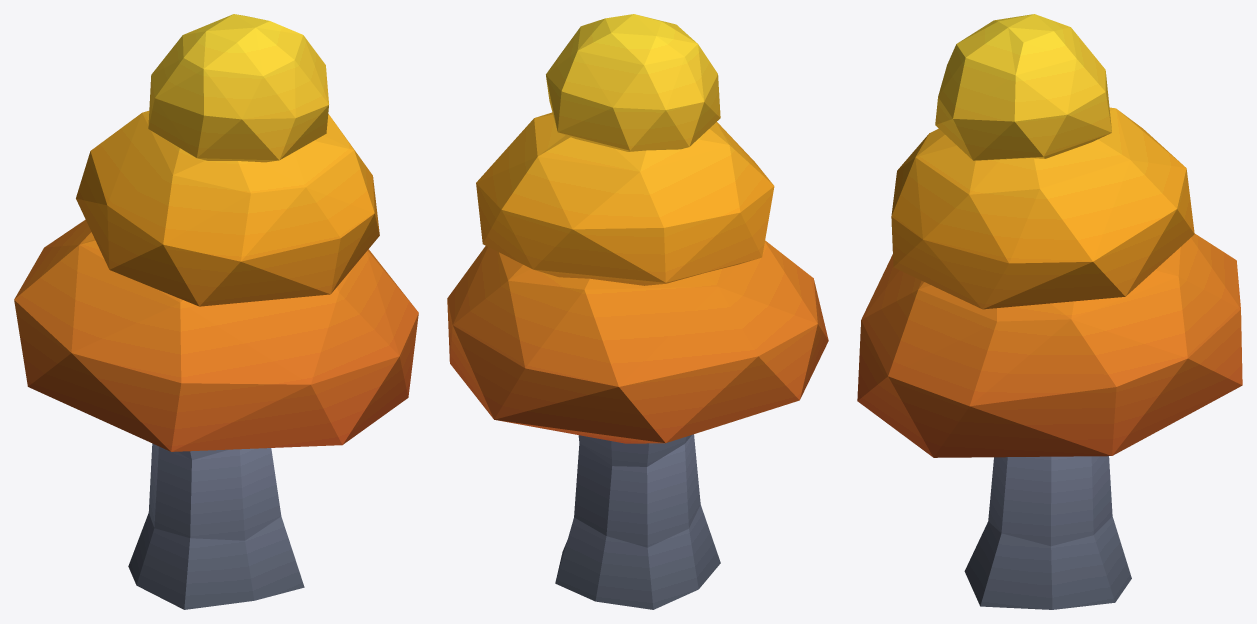
File: Birch_G.glb
3 views of the same model, side by side, from view 1: azimuth 30°, elevation 25°; view 2: azimuth 150°, elevation 25°; view 3: azimuth 270°, elevation 25° (orthographic). The views are drawn at different scales.
Visible parts, largest first — view 1: Birch_Leaves1_L, Birch_Leaves2_L, Birch_Trunk_L, Birch_Leaves3_L; view 2: Birch_Leaves1_L, Birch_Leaves2_L, Birch_Trunk_L, Birch_Leaves3_L; view 3: Birch_Leaves1_L, Birch_Leaves2_L, Birch_Trunk_L, Birch_Leaves3_L.
Boxes of the visible parts, box(x1,y1,x2,y2) form: Birch_Leaves1_L: box(14, 219, 418, 451); Birch_Leaves2_L: box(76, 111, 379, 306); Birch_Trunk_L: box(128, 443, 304, 609); Birch_Leaves3_L: box(148, 14, 328, 162); Birch_Leaves1_L: box(447, 240, 828, 443); Birch_Leaves2_L: box(476, 112, 774, 285); Birch_Trunk_L: box(555, 434, 720, 609); Birch_Leaves3_L: box(546, 14, 720, 151); Birch_Leaves1_L: box(857, 233, 1242, 457); Birch_Leaves2_L: box(891, 107, 1194, 309); Birch_Trunk_L: box(964, 456, 1131, 609); Birch_Leaves3_L: box(935, 14, 1111, 160).
Size of the model in its own units: 2.15 by 3.35 by 2.07.
Materials: 1 (1 with a texture image).
